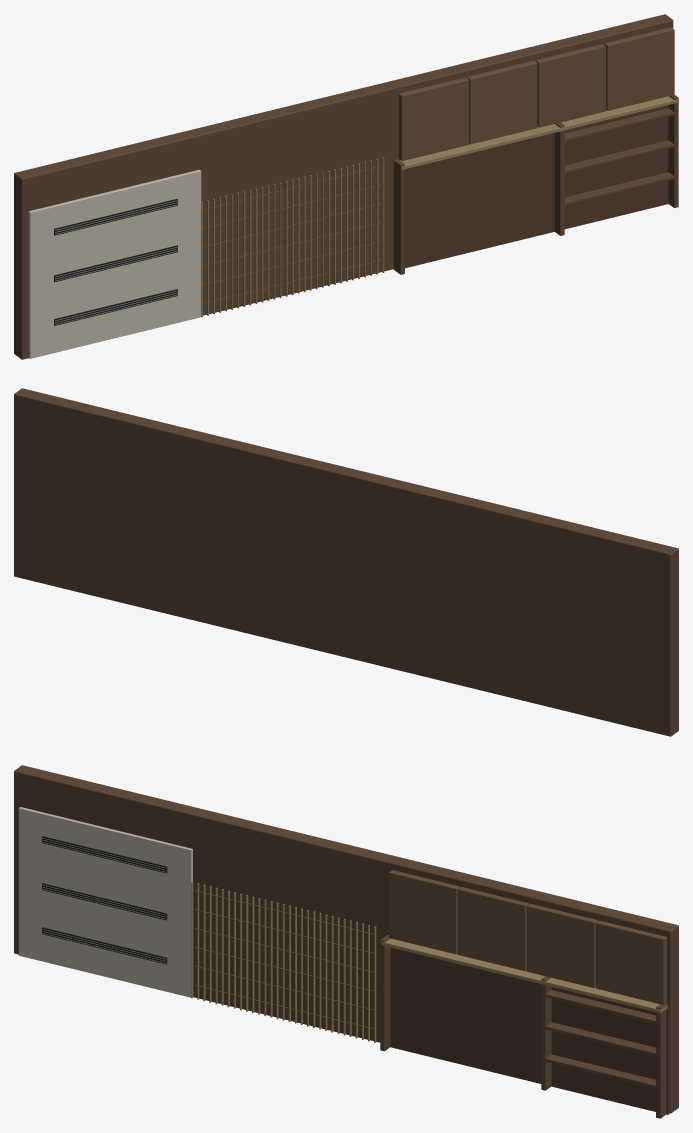
File: wall.glb
3 views of the same model, one above another, from view 1: azimuth 30°, elevation 25°; view 2: azimuth 150°, elevation 25°; view 3: azimuth 330°, elevation 25° (orthographic).
Parts seen in each view (by area): view 1: 실내 조명 베이크용 wall; view 2: 실내 조명 베이크용 wall; view 3: 실내 조명 베이크용 wall.
Boxes of the visible parts, x1=… form: 실내 조명 베이크용 wall: x1=14, y1=14, x2=678, y2=359; 실내 조명 베이크용 wall: x1=14, y1=388, x2=678, y2=736; 실내 조명 베이크용 wall: x1=14, y1=765, x2=678, y2=1118.
Bounding box in the file's own units: 6.47 × 1.72 × 0.2788.
